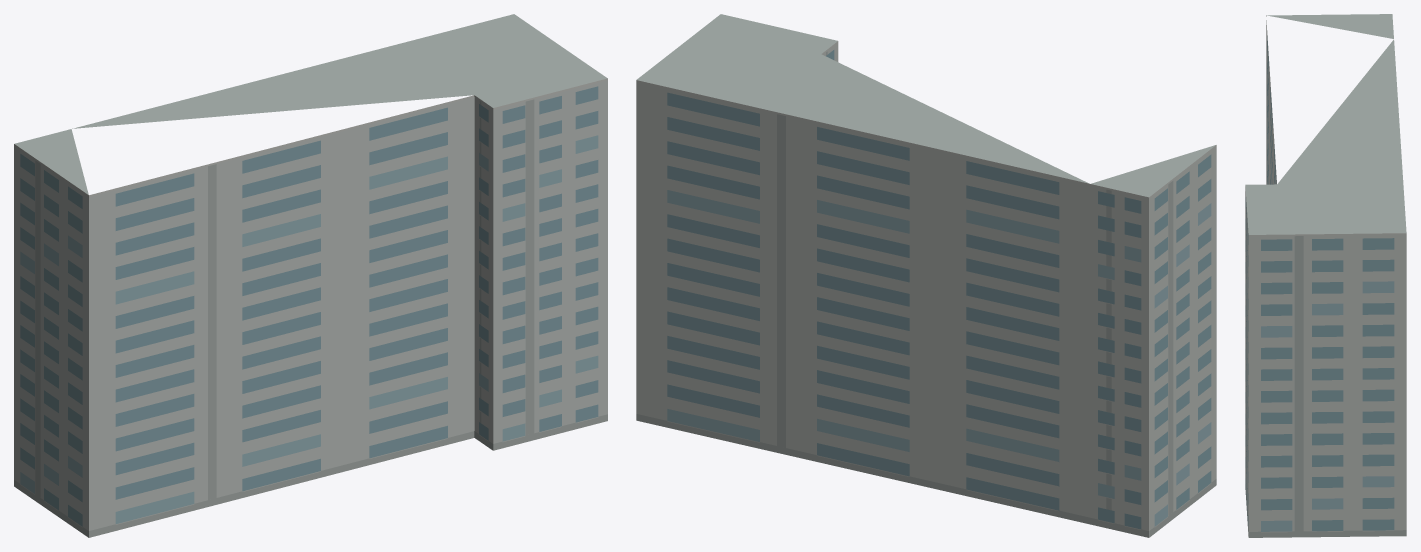
The model's file is residential-aa7eb0ac-84b8-4e90-a18f-0c9e5b65ad7c.glb.
3 renders of one model, left to right at view 1: azimuth 30°, elevation 25°; view 2: azimuth 150°, elevation 25°; view 3: azimuth 270°, elevation 25°, orthographic. The views are drawn at different scales.
Visible parts, largest first — view 1: residential-aa7eb0ac-84b8-4e90-a18f-0c9e5b65ad7c.tmp; view 2: residential-aa7eb0ac-84b8-4e90-a18f-0c9e5b65ad7c.tmp; view 3: residential-aa7eb0ac-84b8-4e90-a18f-0c9e5b65ad7c.tmp.
Part boxes in pixels (<box>): residential-aa7eb0ac-84b8-4e90-a18f-0c9e5b65ad7c.tmp: <box>14,14,607,537</box>; residential-aa7eb0ac-84b8-4e90-a18f-0c9e5b65ad7c.tmp: <box>636,14,1216,537</box>; residential-aa7eb0ac-84b8-4e90-a18f-0c9e5b65ad7c.tmp: <box>1245,14,1406,537</box>.
Bounding box in the file's own units: 68.85 × 44 × 21.23.
